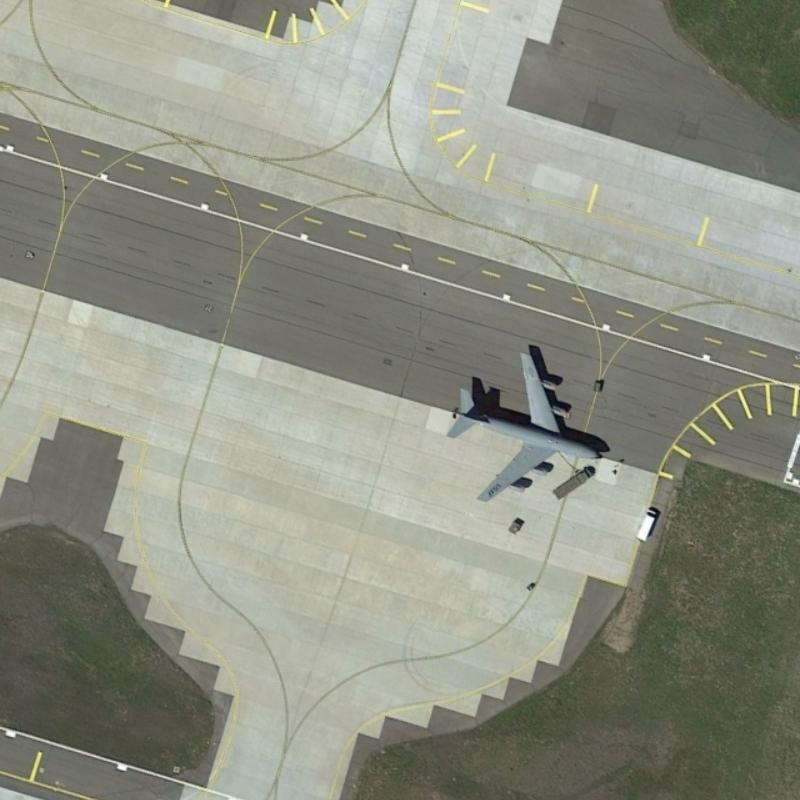A14: (440, 332, 613, 507)
